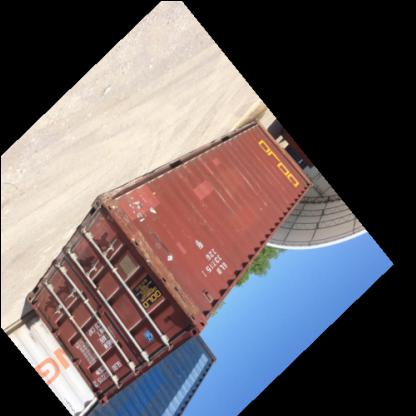Damage: (102, 190, 174, 270), (153, 270, 202, 324), (200, 150, 235, 212), (235, 154, 261, 196), (184, 214, 219, 244), (170, 162, 198, 186), (254, 200, 272, 218)
